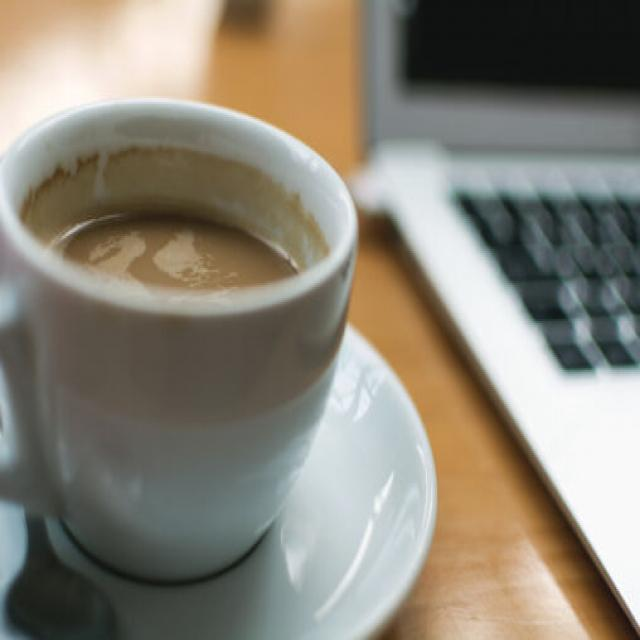cup: (4, 110, 371, 621)
